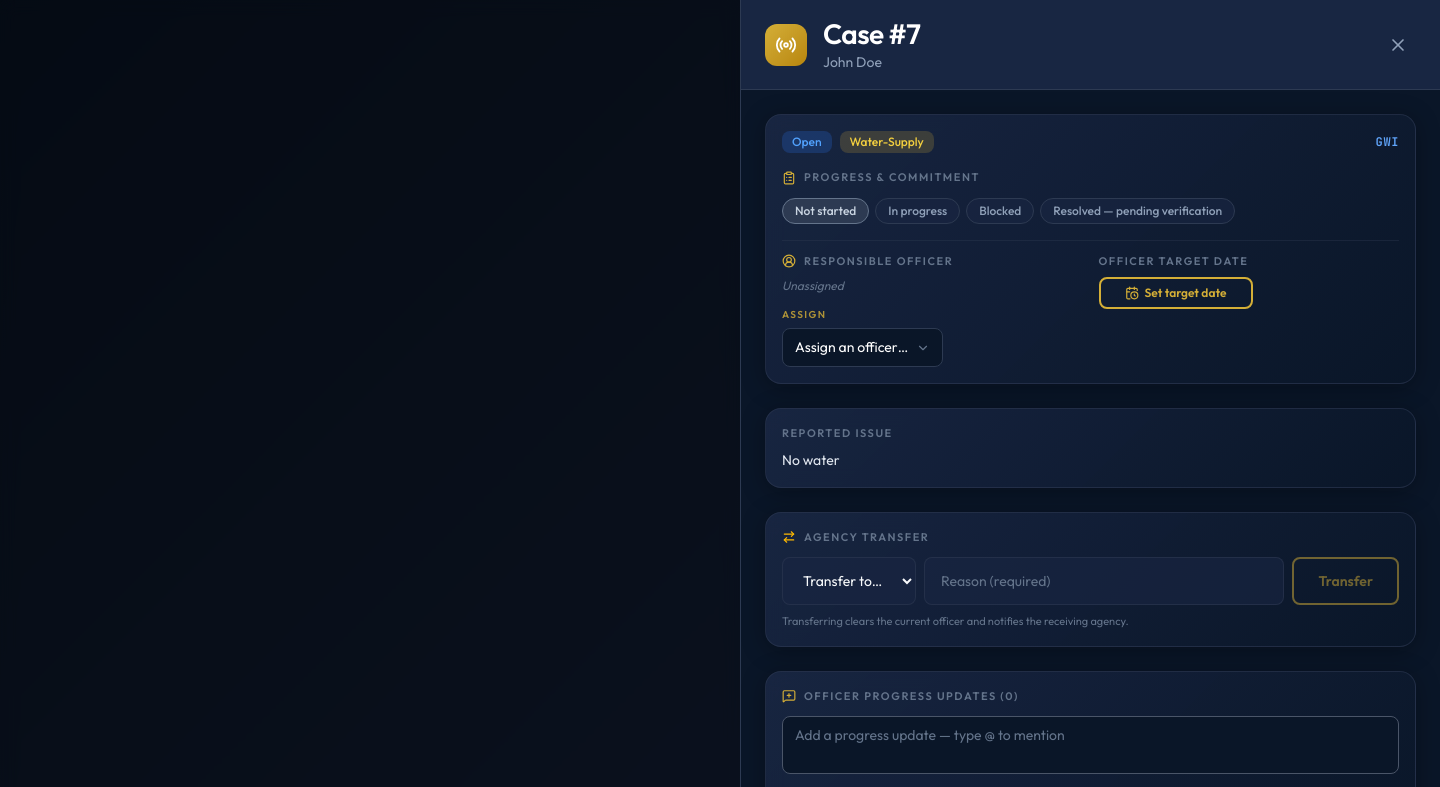
Scenario: officer picker (MultiSelect adapter) › labels agency-less superadmins with the Ministry fallback
Expected: the text "No water" is shown, top-left (782, 451), bottom-right (840, 469)
Click the button "Assign an officer…".
click(863, 348)  # box top-left (782, 328), bottom-right (943, 367)
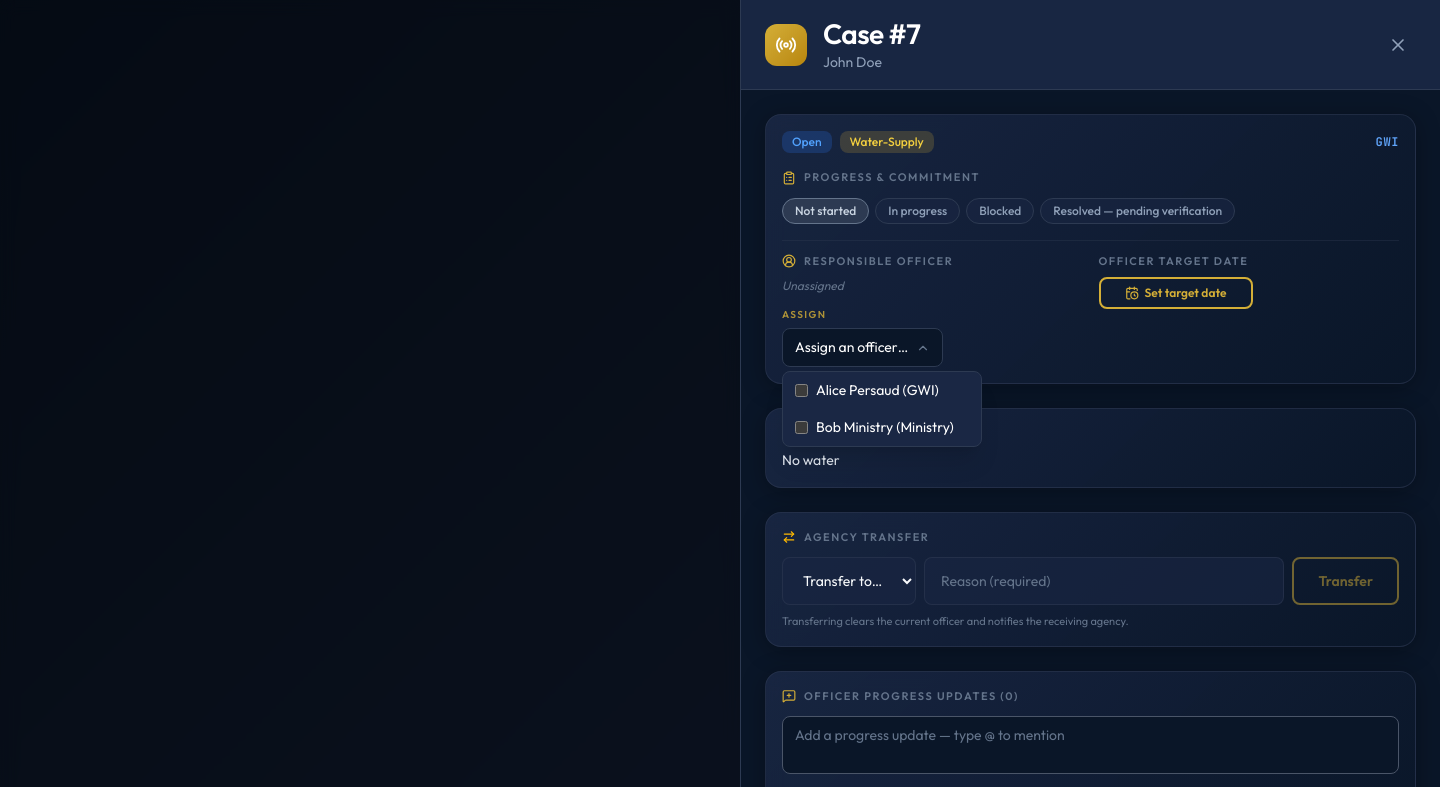
Expected: the checkbox labelled "Bob Ministry (Ministry)" is shown, top-left (795, 421), bottom-right (808, 434)
